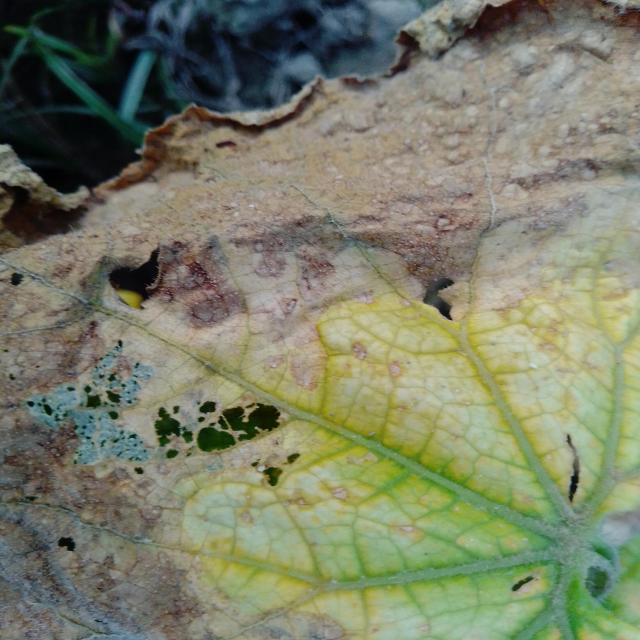cucumber_anthracnose: (10, 59, 634, 584)
